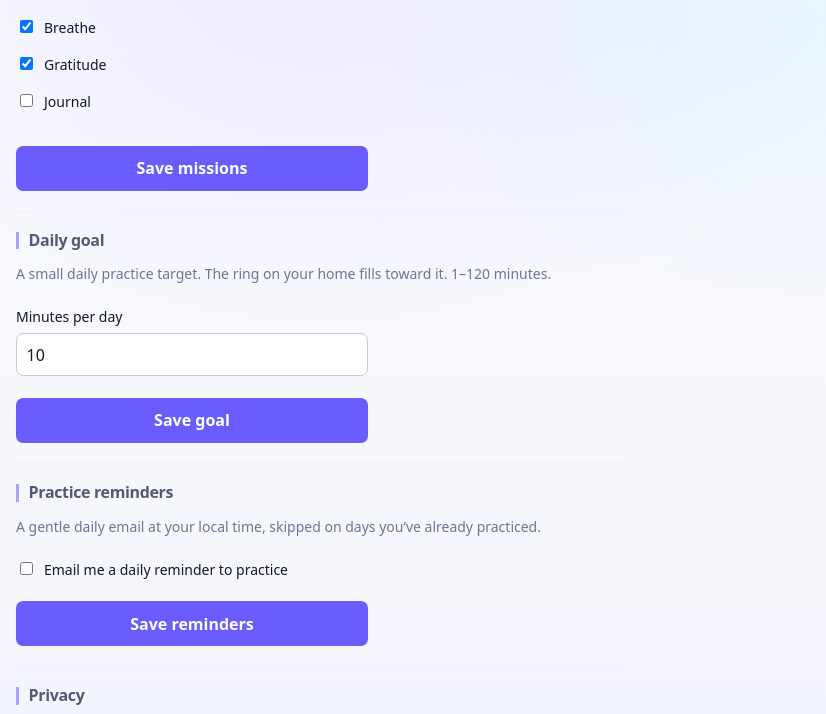
it: SettingsPage — daily goal › saves a new goal and refreshes the user
(page scrolled)
Replace the text in the number field labelled "Minutes per day" with "25": (192, 355) [16, 333, 368, 376]
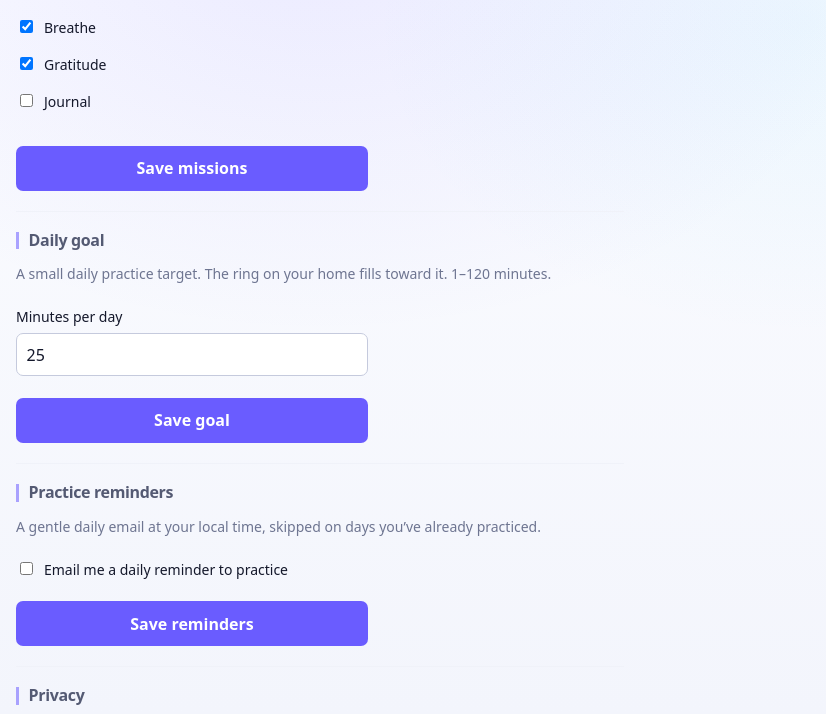
Click the button "Save goal": (192, 420) [16, 398, 368, 443]
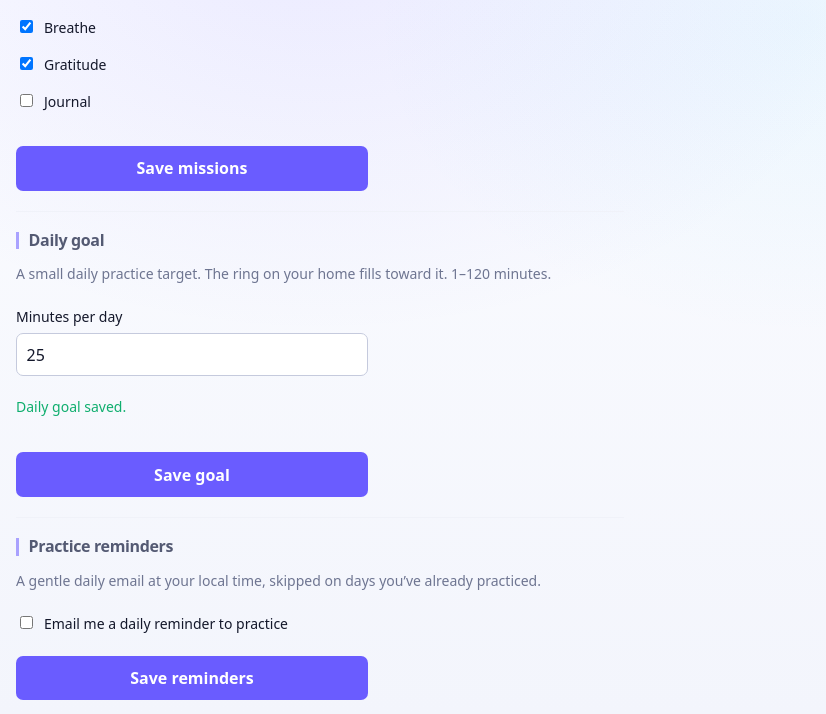
Expected: the text "Daily goal saved." is shown, [16, 397, 126, 416]
